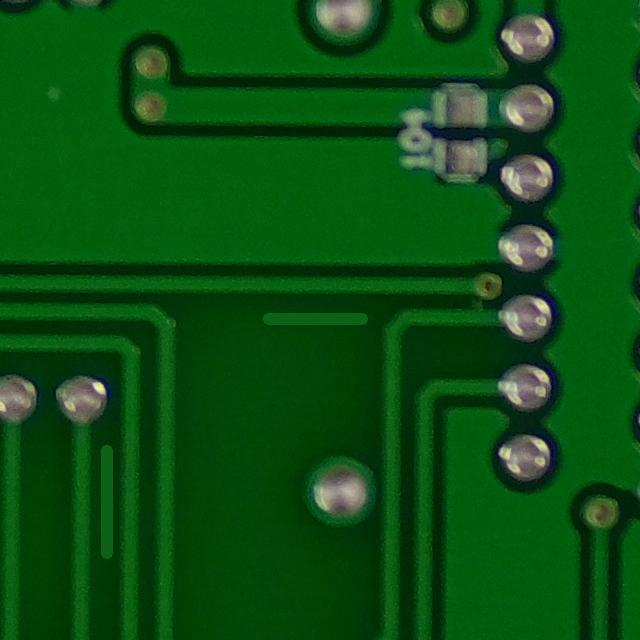spurious_copper: (255, 291, 385, 350)
